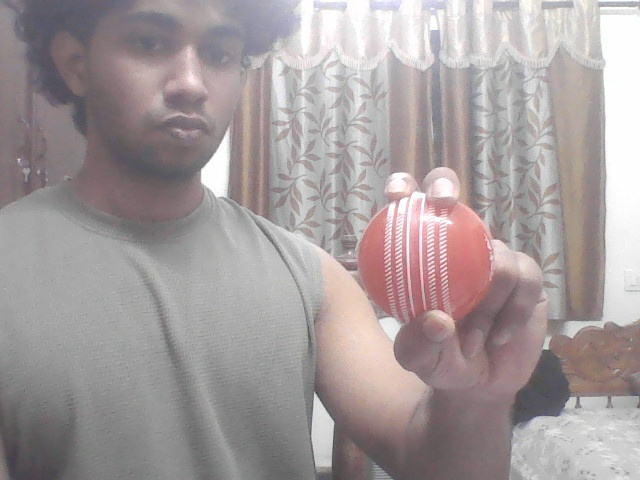cricket_ball: (353, 190, 502, 330)
